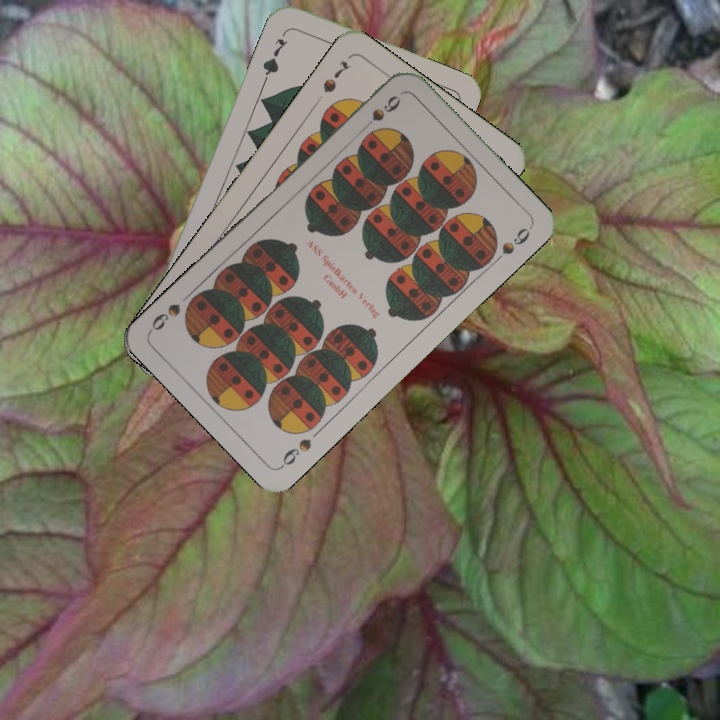G7: (258, 34, 290, 83)
S7: (318, 56, 354, 96)
S9: (356, 91, 404, 135), (276, 434, 315, 471)
